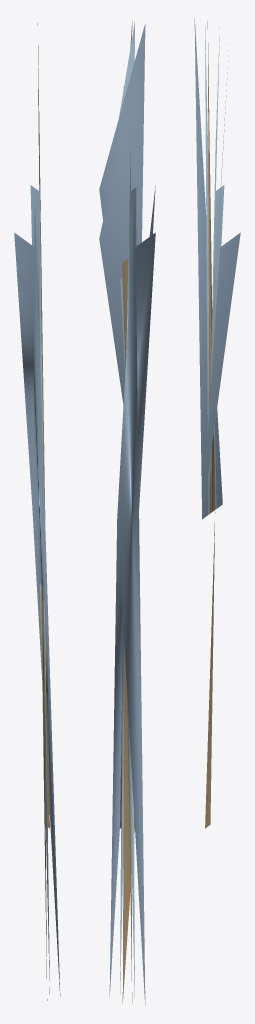
The model's file is equip_weapon_water_staff.glb.
The picture shows the model from 3 angles, left to right: view 1: azimuth 30°, elevation 25°; view 2: azimuth 150°, elevation 25°; view 3: azimuth 330°, elevation 25°; orthographic projection.
Parts seen in each view (by area): view 1: equip_weapon_water_staff; view 2: equip_weapon_water_staff; view 3: equip_weapon_water_staff.
Boxes of the visible parts, x1,y1,x2,y2 form: equip_weapon_water_staff: (14,23,60,1000); equip_weapon_water_staff: (99,20,155,1005); equip_weapon_water_staff: (194,18,240,828).
Bounding box in the file's own units: 0.076 × 2 × 0.076.
